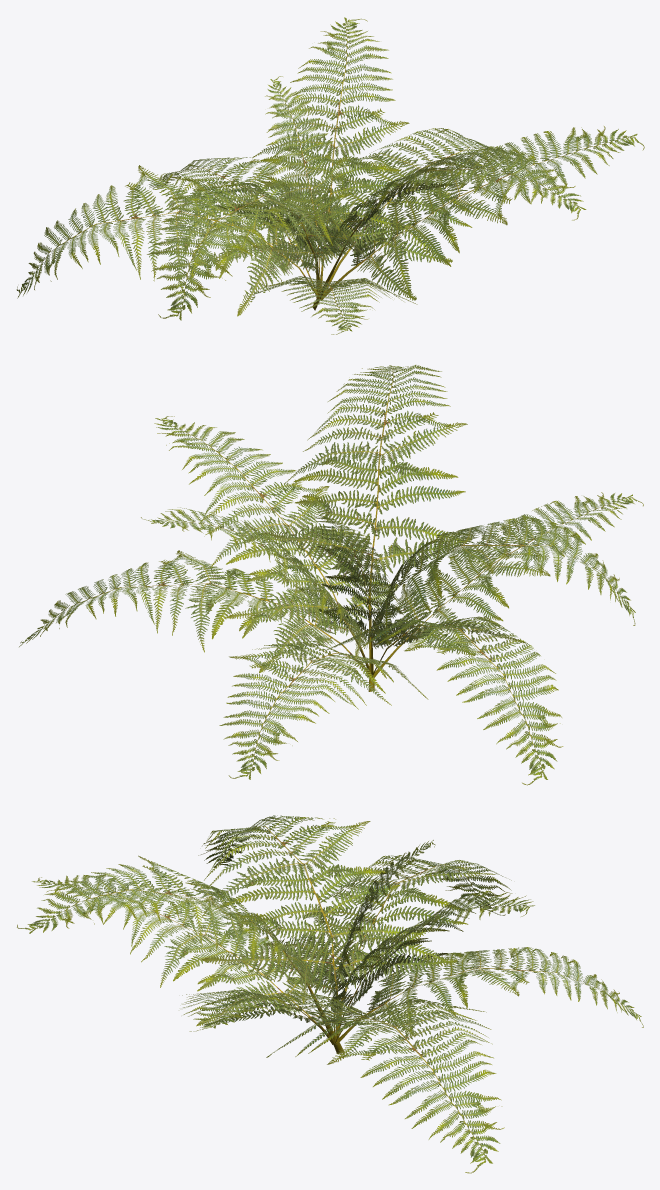
File: fern_02.obj
3 views of the same model, one above another, from view 1: azimuth 30°, elevation 25°; view 2: azimuth 150°, elevation 25°; view 3: azimuth 270°, elevation 25° (orthographic). The views are drawn at different scales.
Parts seen in each view (by area): view 1: Fern_02; view 2: Fern_02; view 3: Fern_02.
Boxes of the visible parts, left/top/right/bottom form: Fern_02: left=16, top=17, right=644, bottom=334; Fern_02: left=19, top=365, right=643, bottom=785; Fern_02: left=17, top=815, right=643, bottom=1173.
Size of the model in its own units: 1.92 by 0.7181 by 1.89.
1 material, 1 textured.
